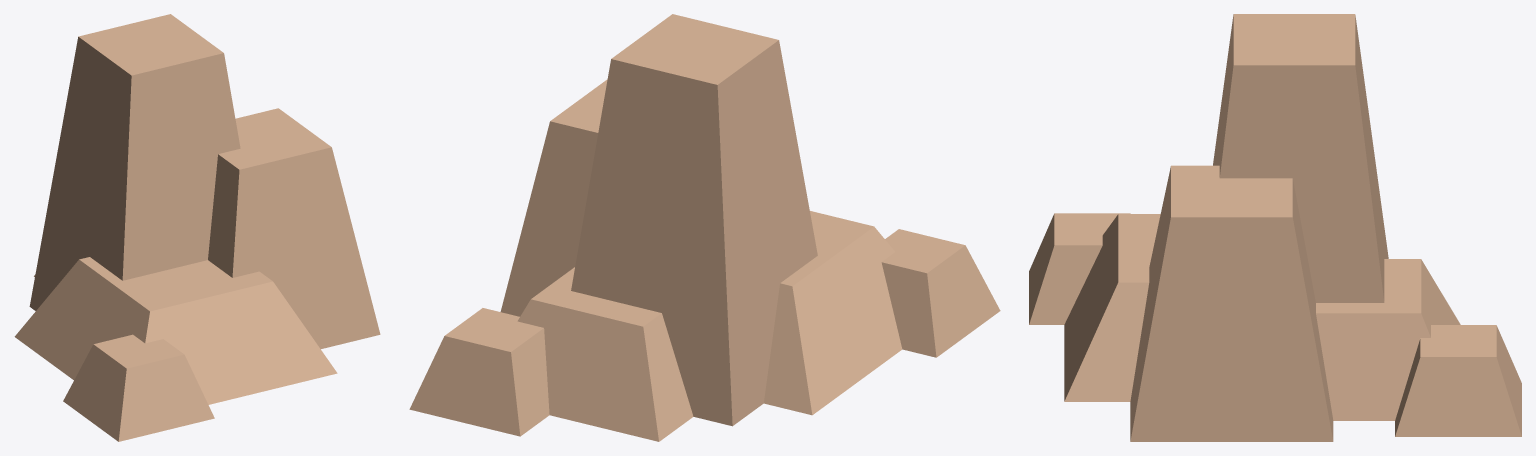
The model's file is rocksTall.fbx.
The picture shows the model from 3 angles, left to right: view 1: azimuth 30°, elevation 25°; view 2: azimuth 150°, elevation 25°; view 3: azimuth 270°, elevation 25°; orthographic projection. The views are drawn at different scales.
Parts seen in each view (by area): view 1: rocksTall; view 2: rocksTall; view 3: rocksTall.
Boxes of the visible parts, <box> form: rocksTall: <box>14,14,380,441</box>; rocksTall: <box>409,14,1000,441</box>; rocksTall: <box>1029,14,1521,441</box>.
Size of the model in its own units: 672 by 578 by 821.
